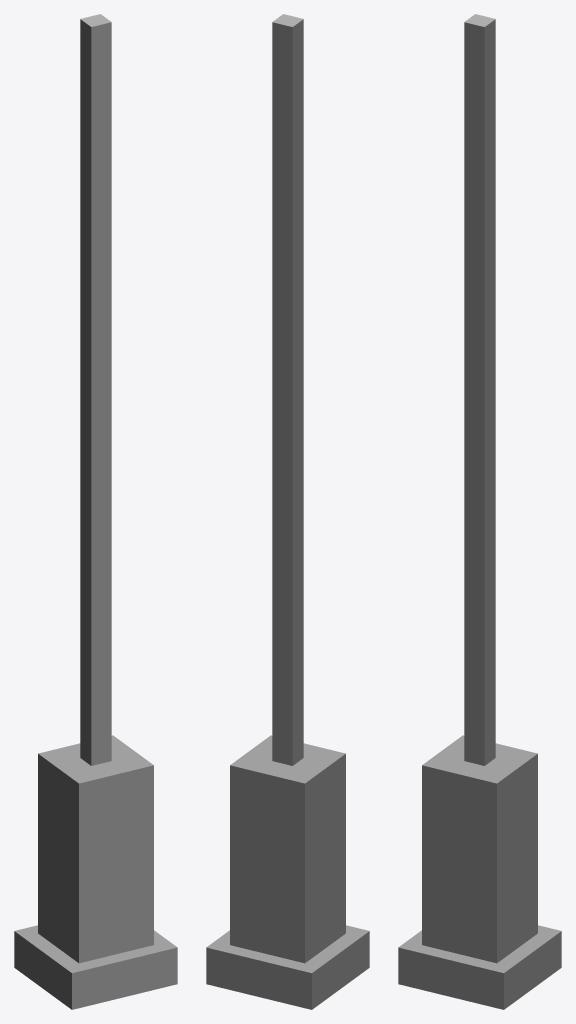
Rendered from ariel_mesh.fbx.
3 renders of one model, left to right at view 1: azimuth 30°, elevation 25°; view 2: azimuth 150°, elevation 25°; view 3: azimuth 330°, elevation 25°, orthographic.
Visible parts, largest first — view 1: ariel_mesh; view 2: ariel_mesh; view 3: ariel_mesh.
Part boxes in pixels (x1,y1,x2,y2): ariel_mesh: (14, 14, 177, 1009); ariel_mesh: (206, 14, 369, 1009); ariel_mesh: (398, 14, 561, 1009).
Size of the model in its own units: 0.7797 by 6.74 by 0.7381.
